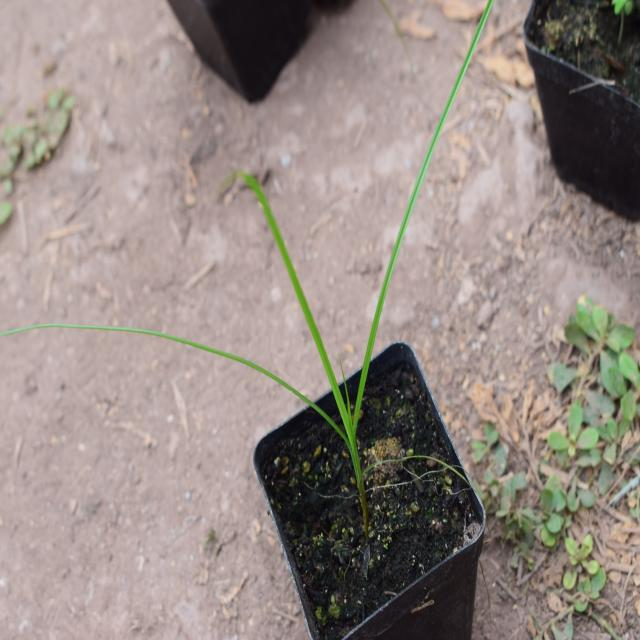sedge: (81, 28, 506, 489)
